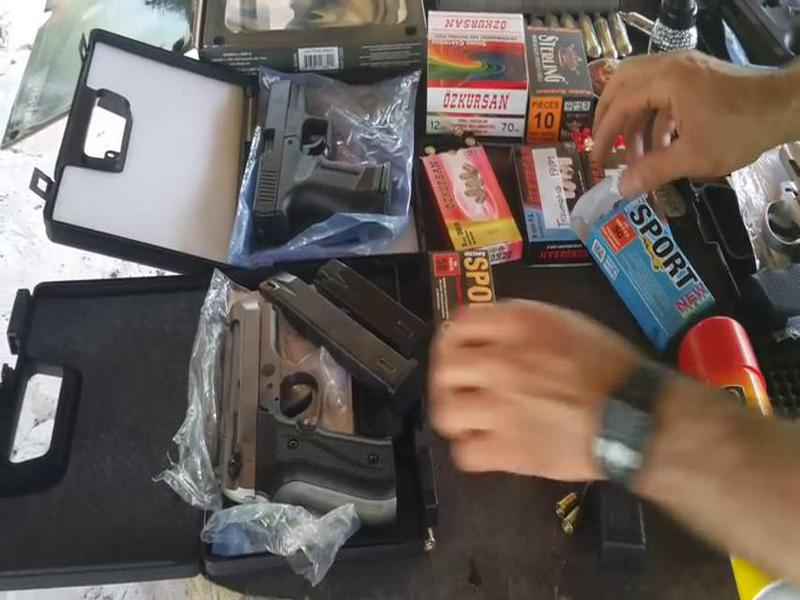Pistola: (207, 262, 411, 550), (223, 56, 431, 262)
